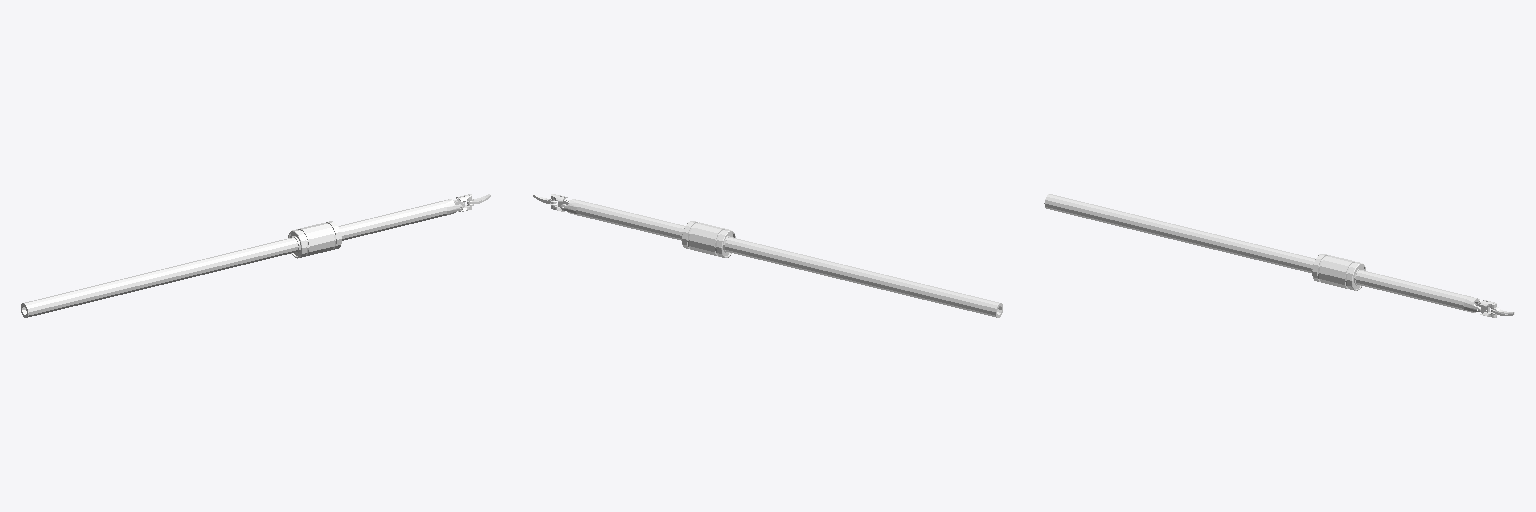
URDF robot description (end_effector):
<?xml version="1.0"?>
<robot name="end_effector">
 
   <material name="gray">
      <color rgba="0.4078 0.4078 0.4078 1"/>
   </material>

   <material name="white">
      <color rgba="1 1 1 1"/>
   </material>
 
   <link name = "world" />
 
   <link name="bot_scissor">
      <inertial>
         <origin rpy="0 0 0" xyz="0.0001 0.0004 0.0962" />
         <mass value="3.28858495027196E-05"/>
         <inertia ixx="5E-10" ixy="0" ixz="0" iyy="5E-10" iyz="0" izz="0" />
      </inertial>
 
      <visual>
         <origin xyz="0 0 0" rpy="3.1416 -1.5708 0"/>
         <geometry>
            <mesh filename="package://surgeon/model/meshes/bot_scissor.stl" scale="1 1 1"/>
         </geometry>
         <material name="white"/>
      </visual>
 
      <collision>
         <geometry>
            <mesh filename="package://surgeon/model/meshes/bot_scissor.stl" scale="1 1 1"/>
         </geometry>
      </collision>
   </link>
 
 
   <link name="top_scissor">
      <inertial>
         <origin rpy="0 0 0" xyz="-0.0001 -0.0007 0.0964" />
         <mass value="3.29063726784052E-05"/>
         <inertia ixx="5E-10" ixy="0" ixz="0" iyy="5E-10" iyz="0" izz="0" />
      </inertial>
 
      <visual>
         <origin xyz="0 0 0" rpy="3.1416 -1.5708 0"/>
         <geometry>
            <mesh filename="package://surgeon/model/meshes/top_scissor.stl" scale="1 1 1"/>
         </geometry>
         <material name="white"/>
      </visual>
 
      <collision>
         <geometry>
            <mesh filename="package://surgeon/model/meshes/top_scissor.stl" scale="1 1 1"/>
         </geometry>
      </collision>
   </link>
 
 
   <link name="head">
      <inertial>
         <origin rpy="0 0 0" xyz="0 0 0.0883" />
         <mass value="0.000145860751538374"/>
         <inertia ixx="2E-09" ixy="0" ixz="0" iyy="1.2E-09" iyz="0" izz="1.1E-09" />
      </inertial>
 
      <visual>
         <origin xyz="0 0 0" rpy="0 1.5708 0"/>
         <geometry>
            <mesh filename="package://surgeon/model/meshes/head.stl" scale="1 1 1"/>
         </geometry>
         <material name="white"/>
      </visual>
 
      <collision>
         <geometry>
            <mesh filename="package://surgeon/model/meshes/head.stl" scale="1 1 1"/>
         </geometry>
      </collision>
   </link>
 
 
   <link name="base">
      <inertial>
         <origin rpy="0 0 0" xyz="0 0 0.0782" />
         <mass value="0.000324283499010966"/>
         <inertia ixx="4.2E-09" ixy="0" ixz="0" iyy="4.6E-09" iyz="0" izz="2.5E-09" />
      </inertial>
 
      <visual>
         <origin xyz="0 0 0" rpy="0 1.5708 0"/>
         <geometry>
            <mesh filename="package://surgeon/model/meshes/base.stl" scale="1 1 1"/>
         </geometry>
         <material name="white"/>
      </visual>
 
      <collision>
         <geometry>
            <mesh filename="package://surgeon/model/meshes/base.stl" scale="1 1 1"/>
         </geometry>
      </collision>
   </link>
 
 
   <link name="tube">
      <inertial>
         <origin rpy="0 0 0" xyz="0 0 -0.0483" />
         <mass value="0.00765763209312479"/>
         <inertia ixx="3.99261E-05" ixy="0" ixz="0" iyy="3.99261E-05" iyz="0" izz="8.52E-08" />
      </inertial>
 
      <visual>
         <origin xyz="0 0 0" rpy="0 0 0"/>
         <geometry>
            <mesh filename="package://surgeon/model/meshes/tube.stl" scale="1 1 1"/>
         </geometry>
         <material name="white"/>
      </visual>
 
      <collision>
         <geometry>
            <mesh filename="package://surgeon/model/meshes/tube.stl" scale="1 1 1"/>
         </geometry>
      </collision>
   </link>
 
 
   <link name="ref">
      <inertial>
         <origin rpy="0 0 0" xyz="0 0 0" />
         <mass value="0.00123228317338585"/>
         <inertia ixx="9.33E-08" ixy="0" ixz="0" iyy="9.33E-08" iyz="0" izz="4.93E-08" />
      </inertial>
 
      <visual>
         <origin xyz="0 0 -1.2" rpy="0 0 0"/>
         <geometry>
            <mesh filename="package://surgeon/model/meshes/ref.stl" scale="1 1 1"/>
         </geometry>
         <material name="white"/>
      </visual>
 
      <collision>
         <geometry>
            <mesh filename="package://surgeon/model/meshes/ref.stl" scale="1 1 1"/>
         </geometry>
      </collision>
   </link>

   <joint name="Fixed_1" type="fixed">
      <parent link="world"/>
      <child link="ref"/>
      <origin xyz="-13.3 0 0" rpy="3.1416 -1.5708 0"/>
      <axis xyz="0 0 1"/>
   </joint>

   <joint name="Prismatic_1" type="prismatic">
      <limit effort="30" velocity="1.0" lower="0" upper="12.2"/> 
      <parent link="ref"/>
      <child link="tube"/>
      <origin xyz="0 0 -6.03" rpy="0 0 0"/>
      <axis xyz="0 0 1"/>
   </joint>

   <joint name="Fixed_2" type="fixed">
      <parent link="tube"/>
      <child link="base"/>
      <origin xyz="0 0 13.3" rpy="1.5708 0 0"/>
      <axis xyz="0 0 1"/>
   </joint>
 
 
   <joint name="Rotational_1" type="continuous">
      <parent link="base"/>
      <child link="head"/>
      <origin xyz="0 0 0" rpy="0 0 0"/>
      <axis xyz="0 0 1"/>
   </joint>
 
 
   <joint name="Rotational_2" type="continuous">
      <parent link="head"/>
      <child link="bot_scissor"/>
      <origin xyz="0.0875 0.75 0" rpy="1.5708 0 1.5708"/>
      <axis xyz="0 0 1"/>
   </joint>
 
 
   <joint name="Rotational_3" type="continuous">
      <parent link="head"/>
      <child link="top_scissor"/>
      <origin xyz="-0.0875 0.75 0" rpy="1.5708 0 1.5708"/>
      <axis xyz="0 0 1"/>
   </joint>

</robot>

--- Render facts (derived) ---
Views: 3 orthographic renders of the robot side by side, from view 1: azimuth 30°, elevation 25°; view 2: azimuth 150°, elevation 25°; view 3: azimuth 330°, elevation 25°.
Model end_effector with 7 links and 6 joints (3 continuous, 1 prismatic, 2 fixed), rooted at world, posed every joint at zero.
Visible links, largest first — view 1: tube, ref; view 2: tube, ref; view 3: tube, ref.
Link boxes in pixels (x1,y1,x2,y2): tube: [21, 201, 446, 317]; ref: [288, 221, 341, 258]; tube: [576, 201, 1002, 317]; ref: [682, 221, 735, 257]; tube: [1044, 194, 1468, 310]; ref: [1312, 254, 1365, 290].
Size in the robot's own frame: 27.82 by 1.49 by 1.48 metres.
Meshes: 6 distinct files referenced, 6 mesh visuals loaded (6 binary STL).
